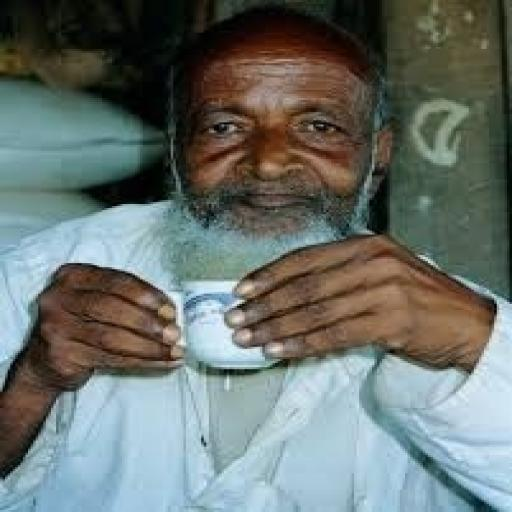drinking: (168, 278, 283, 376)
